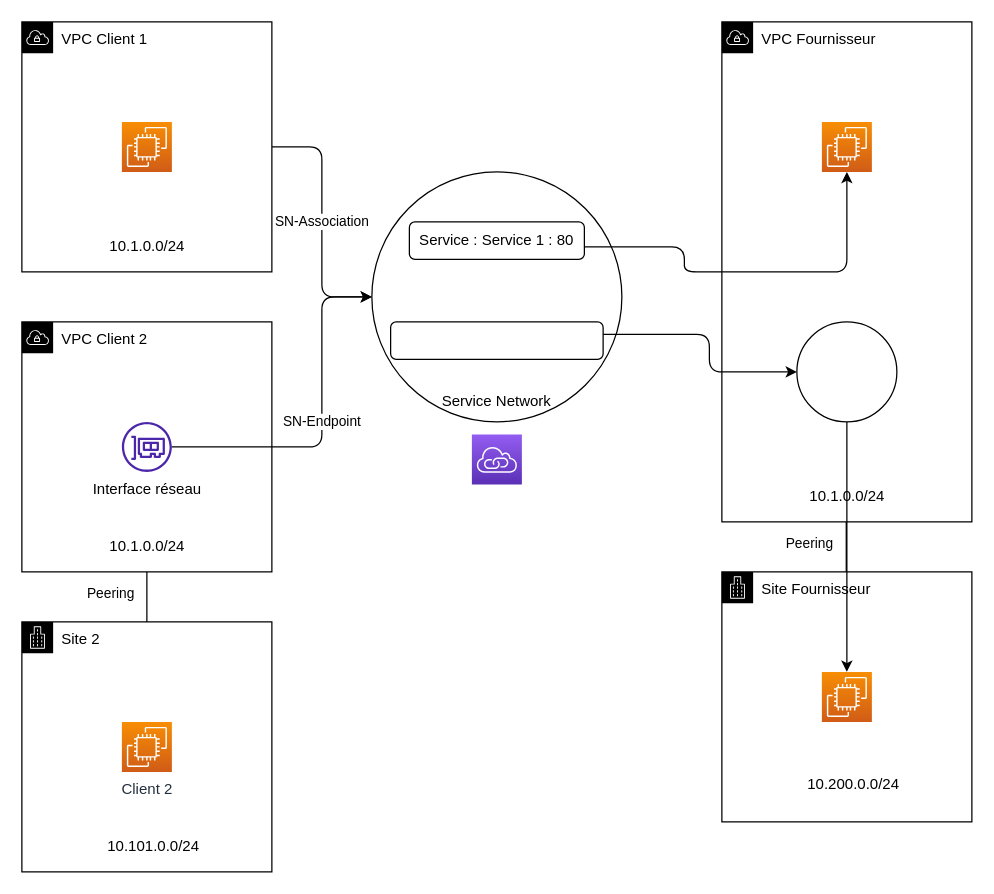
Image size: 994x894. Some labels were removed from this diagram. The centre of each missing label's shape, as x and y in pixels:
"Client 1" belongs at point (146, 146).
"Resource 1" belongs at point (846, 696).
"Ressource Config : Res 1 : 80" belongs at point (496, 340).
"Ressource Gateway" belongs at point (846, 371).
"Service 1" belongs at point (846, 146).
